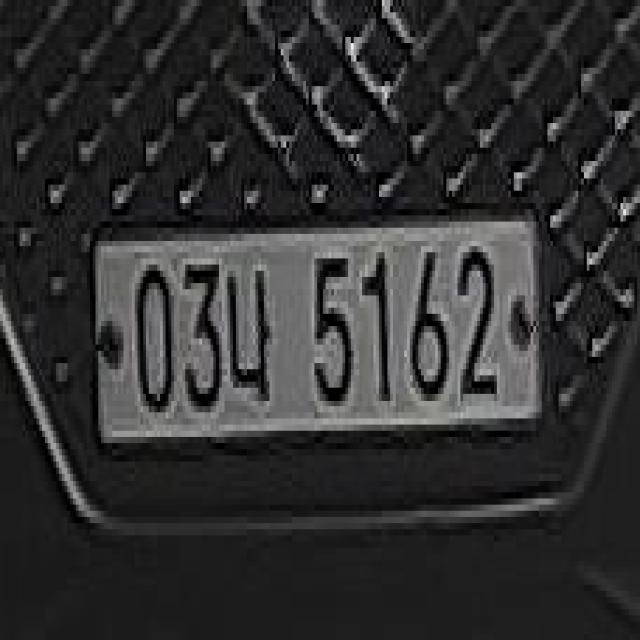illegal_plate: (90, 200, 542, 458)
